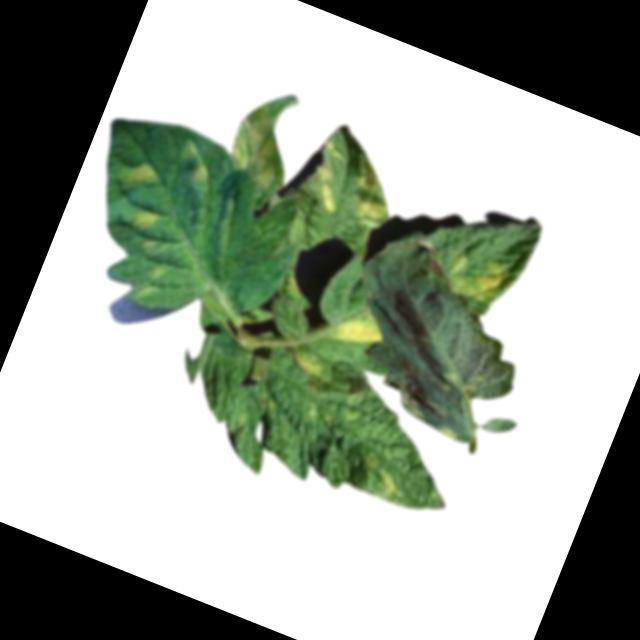Leaf_Mold: (219, 79, 308, 191), (377, 361, 489, 447), (438, 237, 521, 313), (299, 134, 362, 216), (336, 160, 402, 231), (169, 136, 223, 190), (350, 450, 405, 503), (331, 308, 387, 352), (116, 152, 159, 194), (286, 339, 331, 379), (130, 205, 162, 238)
